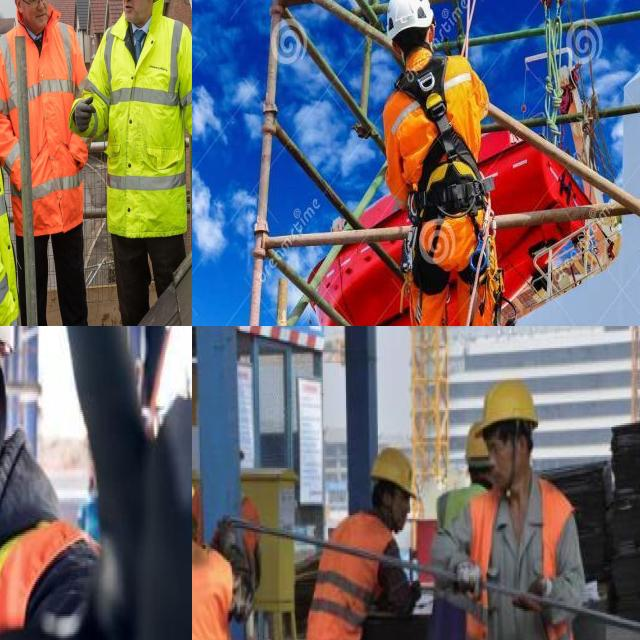Harness: (395, 55, 484, 222)
face_nomask: (486, 440, 522, 491), (378, 487, 413, 530), (25, 0, 52, 38), (118, 0, 153, 27)
glasses: (24, 0, 52, 10)
hand_glove: (515, 574, 553, 618), (456, 552, 486, 602), (75, 98, 101, 146)
head_helmet: (470, 372, 547, 432), (368, 448, 415, 494), (461, 416, 492, 458)
person: (0, 0, 119, 326), (88, 0, 192, 326), (464, 372, 585, 640), (0, 326, 103, 640), (295, 445, 419, 640), (440, 426, 504, 640)
vest: (100, 11, 190, 240), (0, 22, 88, 227), (467, 490, 585, 640), (0, 516, 108, 640), (296, 516, 398, 640)
